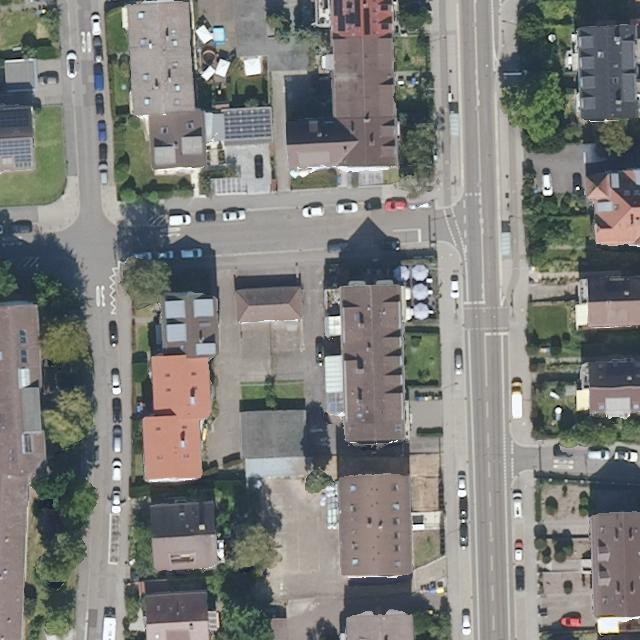PV: (223, 107, 273, 141), (1, 139, 33, 170), (0, 107, 32, 133)
